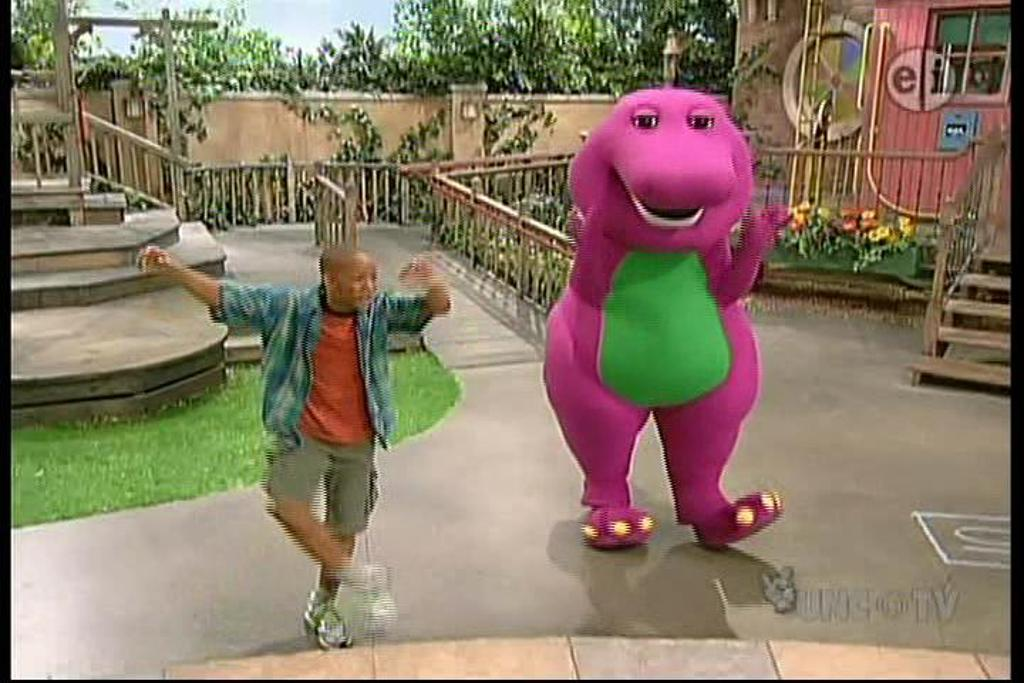face: (338, 261, 377, 307)
